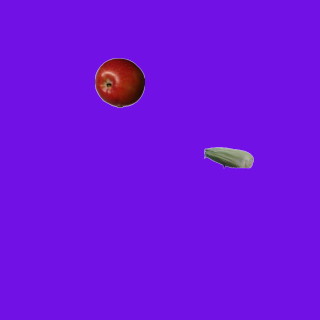Apple Braeburn: (94, 57, 144, 107)
Corn Husk: (203, 132, 253, 182)
